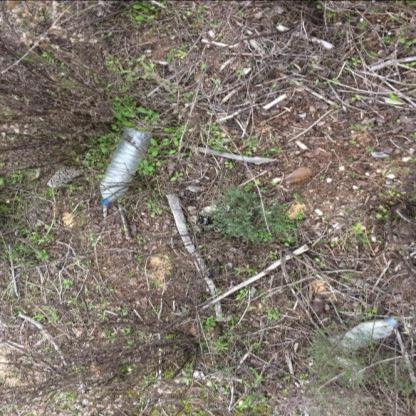Bottle cap: (100, 127, 153, 205), (341, 316, 397, 351)
